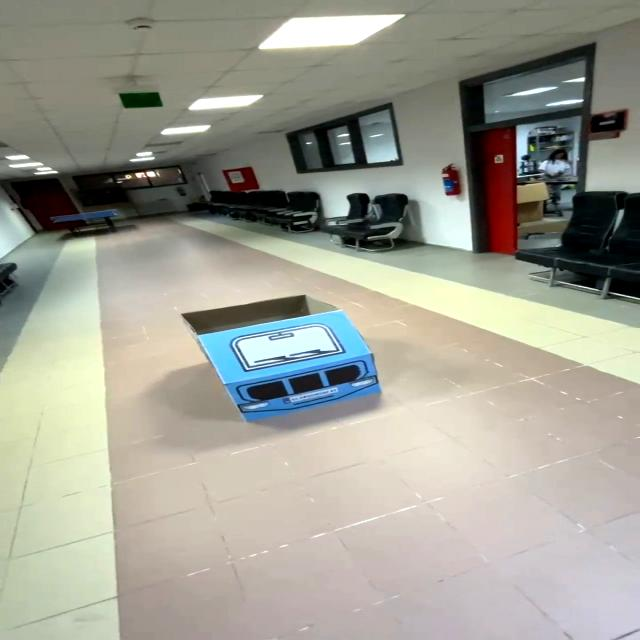blue_car: (166, 280, 406, 458)
